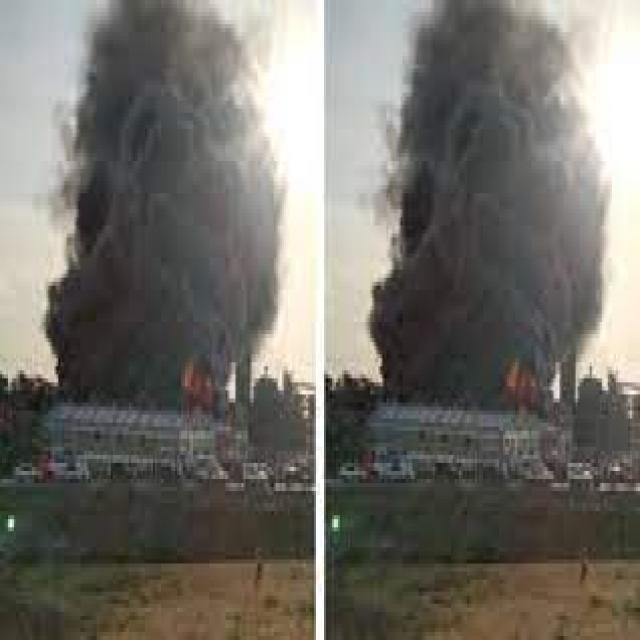smoke: (46, 4, 288, 407), (364, 4, 604, 399)
